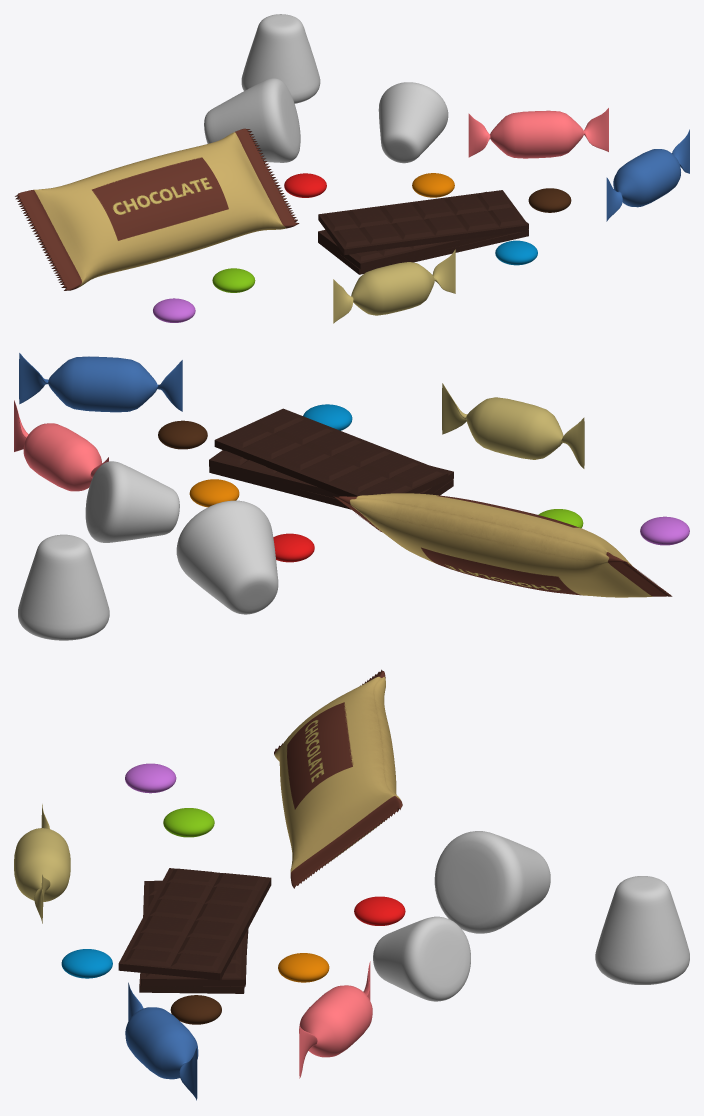
Rendered from candies_fbx.fbx.
3 renders of one model, top to bottom at view 1: azimuth 30°, elevation 25°; view 2: azimuth 150°, elevation 25°; view 3: azimuth 270°, elevation 25°, orthographic. The views are drawn at different scales.
Visible parts, largest first — view 1: chocolate_packet, chocolate bar_1, sugar_candy_red, toffee_red, sugar_candy_pink, toffee _golden, sugar_candy_green, toffee_blue, chocolate bar_2, chocolate bar_3, small_candy_1 B, small_candy_2 A (+4 smaller); view 2: chocolate_packet, chocolate bar_1, sugar_candy_red, sugar_candy_pink, toffee_blue, sugar_candy_green, toffee _golden, toffee_red, chocolate bar_2, small_candy_2 B, small_candy_1 A, chocolate bar_3 (+4 smaller); view 3: chocolate_packet, chocolate bar_1, sugar_candy_red, sugar_candy_pink, sugar_candy_green, toffee_blue, toffee_red, toffee _golden, chocolate bar_2, small_candy_2 A, small_candy_1 B, small_candy_1 C (+4 smaller).
Part boxes in pixels (left/top/right/bottom): chocolate_packet: left=15, top=128, right=299, bottom=290; chocolate bar_1: left=318, top=190, right=528, bottom=255; sugar_candy_red: left=204, top=78, right=300, bottom=162; toffee_red: left=468, top=108, right=608, bottom=158; sugar_candy_pink: left=241, top=14, right=320, bottom=103; toffee _golden: left=333, top=249, right=455, bottom=323; sugar_candy_green: left=378, top=82, right=448, bottom=163; toffee_blue: left=606, top=129, right=689, bottom=221; chocolate bar_2: left=318, top=191, right=528, bottom=269; chocolate bar_3: left=318, top=230, right=528, bottom=274; small_candy_1 B: left=495, top=240, right=537, bottom=265; small_candy_2 A: left=212, top=268, right=255, bottom=292; chocolate_packet: left=333, top=493, right=672, bottom=597; chocolate bar_1: left=214, top=408, right=448, bottom=496; sugar_candy_red: left=176, top=500, right=278, bottom=614; sugar_candy_pink: left=18, top=534, right=109, bottom=640; toffee_blue: left=19, top=353, right=182, bottom=412; sugar_candy_green: left=85, top=461, right=179, bottom=542; toffee _golden: left=442, top=383, right=584, bottom=468; toffee_red: left=14, top=400, right=108, bottom=491; chocolate bar_2: left=209, top=450, right=453, bottom=498; small_candy_2 B: left=158, top=420, right=207, bottom=449; small_candy_1 A: left=640, top=516, right=689, bottom=545; chocolate bar_3: left=209, top=466, right=453, bottom=509; chocolate_packet: left=274, top=669, right=402, bottom=888; chocolate bar_1: left=118, top=868, right=271, bottom=980; sugar_candy_red: left=434, top=831, right=550, bottom=933; sugar_candy_pink: left=595, top=876, right=689, bottom=984; sugar_candy_green: left=373, top=916, right=470, bottom=1001; toffee_blue: left=125, top=982, right=198, bottom=1100; toffee_red: left=299, top=961, right=372, bottom=1078; toffee _golden: left=14, top=804, right=70, bottom=923; chocolate bar_2: left=141, top=880, right=247, bottom=986; small_candy_2 A: left=163, top=808, right=214, bottom=837; small_candy_1 B: left=61, top=949, right=112, bottom=978; small_candy_1 C: left=278, top=953, right=329, bottom=982.
Size of the model in its own units: 43.47 by 5.41 by 35.34.
